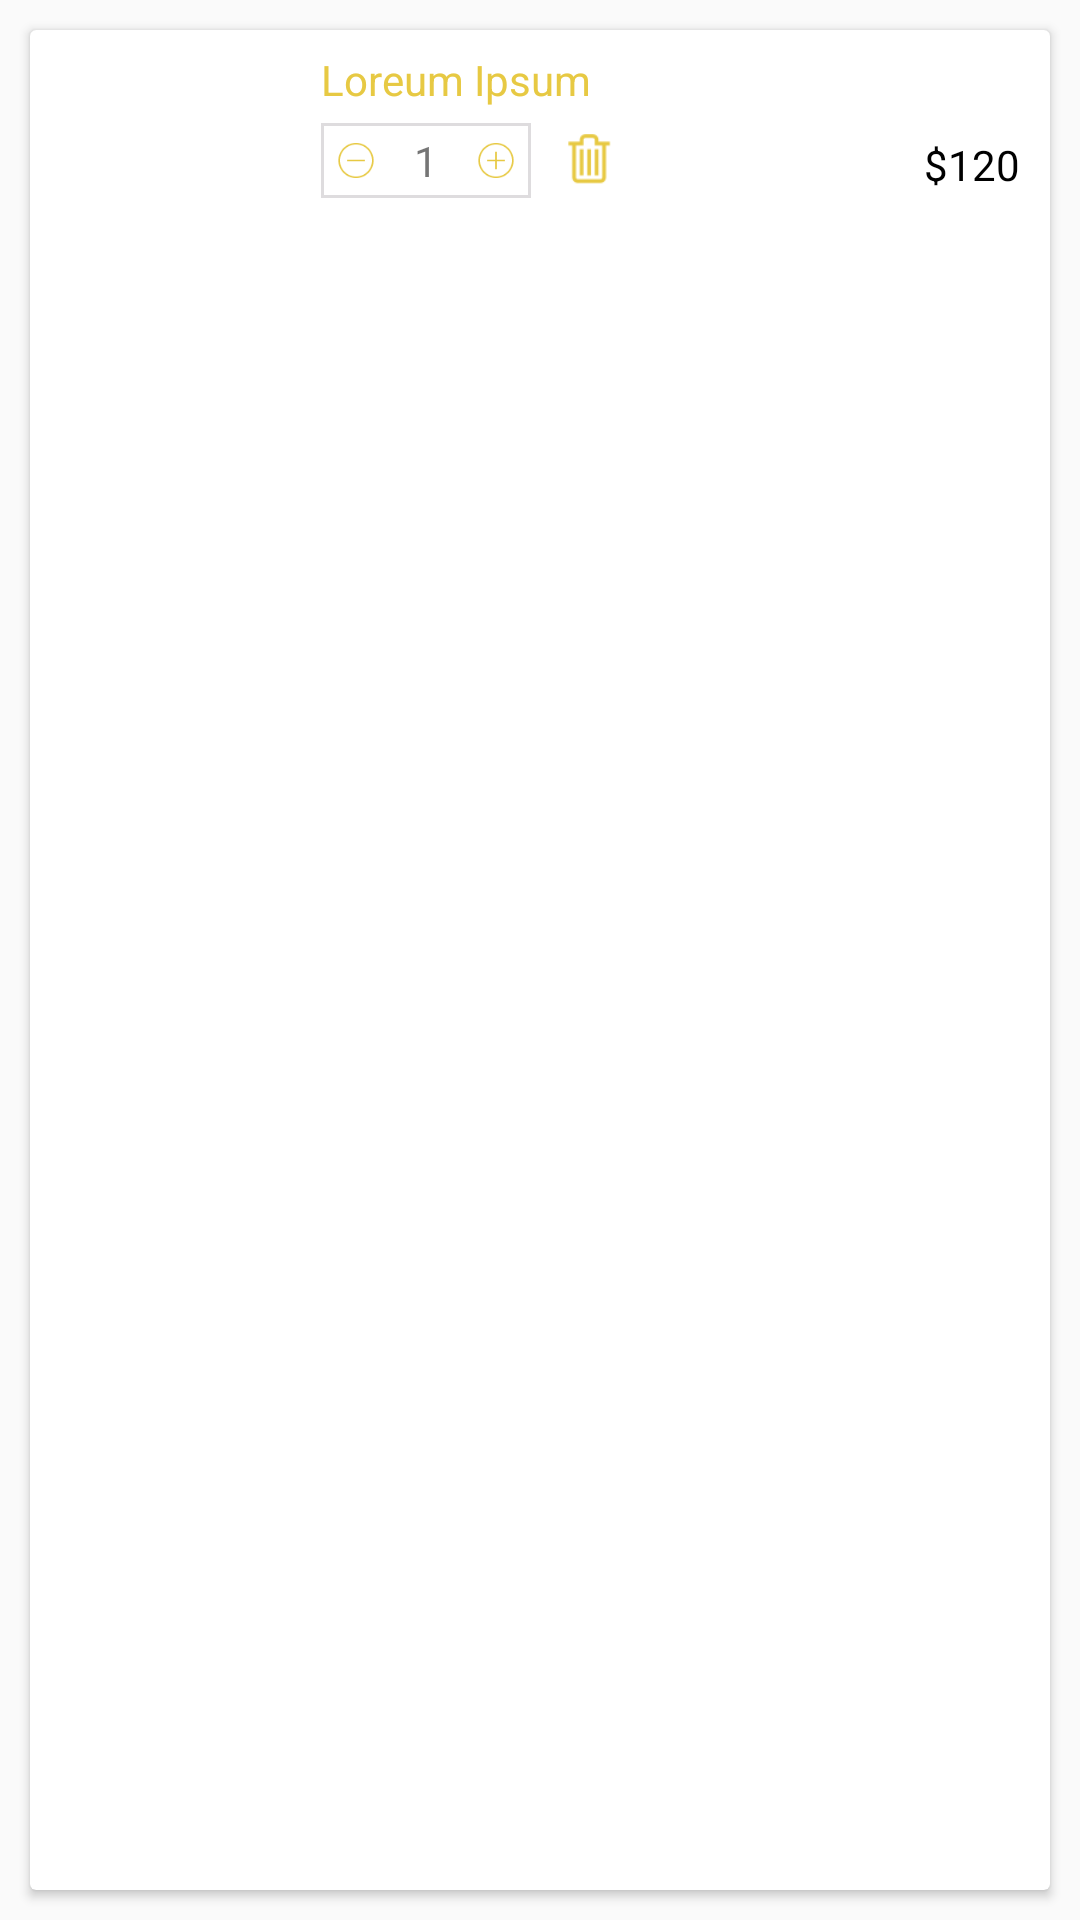

Where to tap for icons on this 1080px×1920px app screen, as [x,y]:
delete: [589,159]
minus: [356,160]
